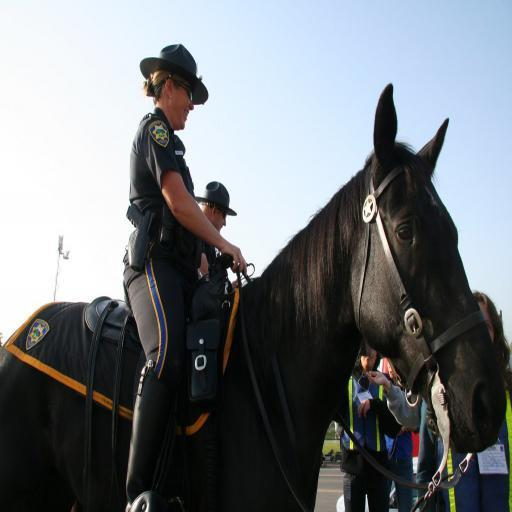horse: (0, 83, 507, 512)
